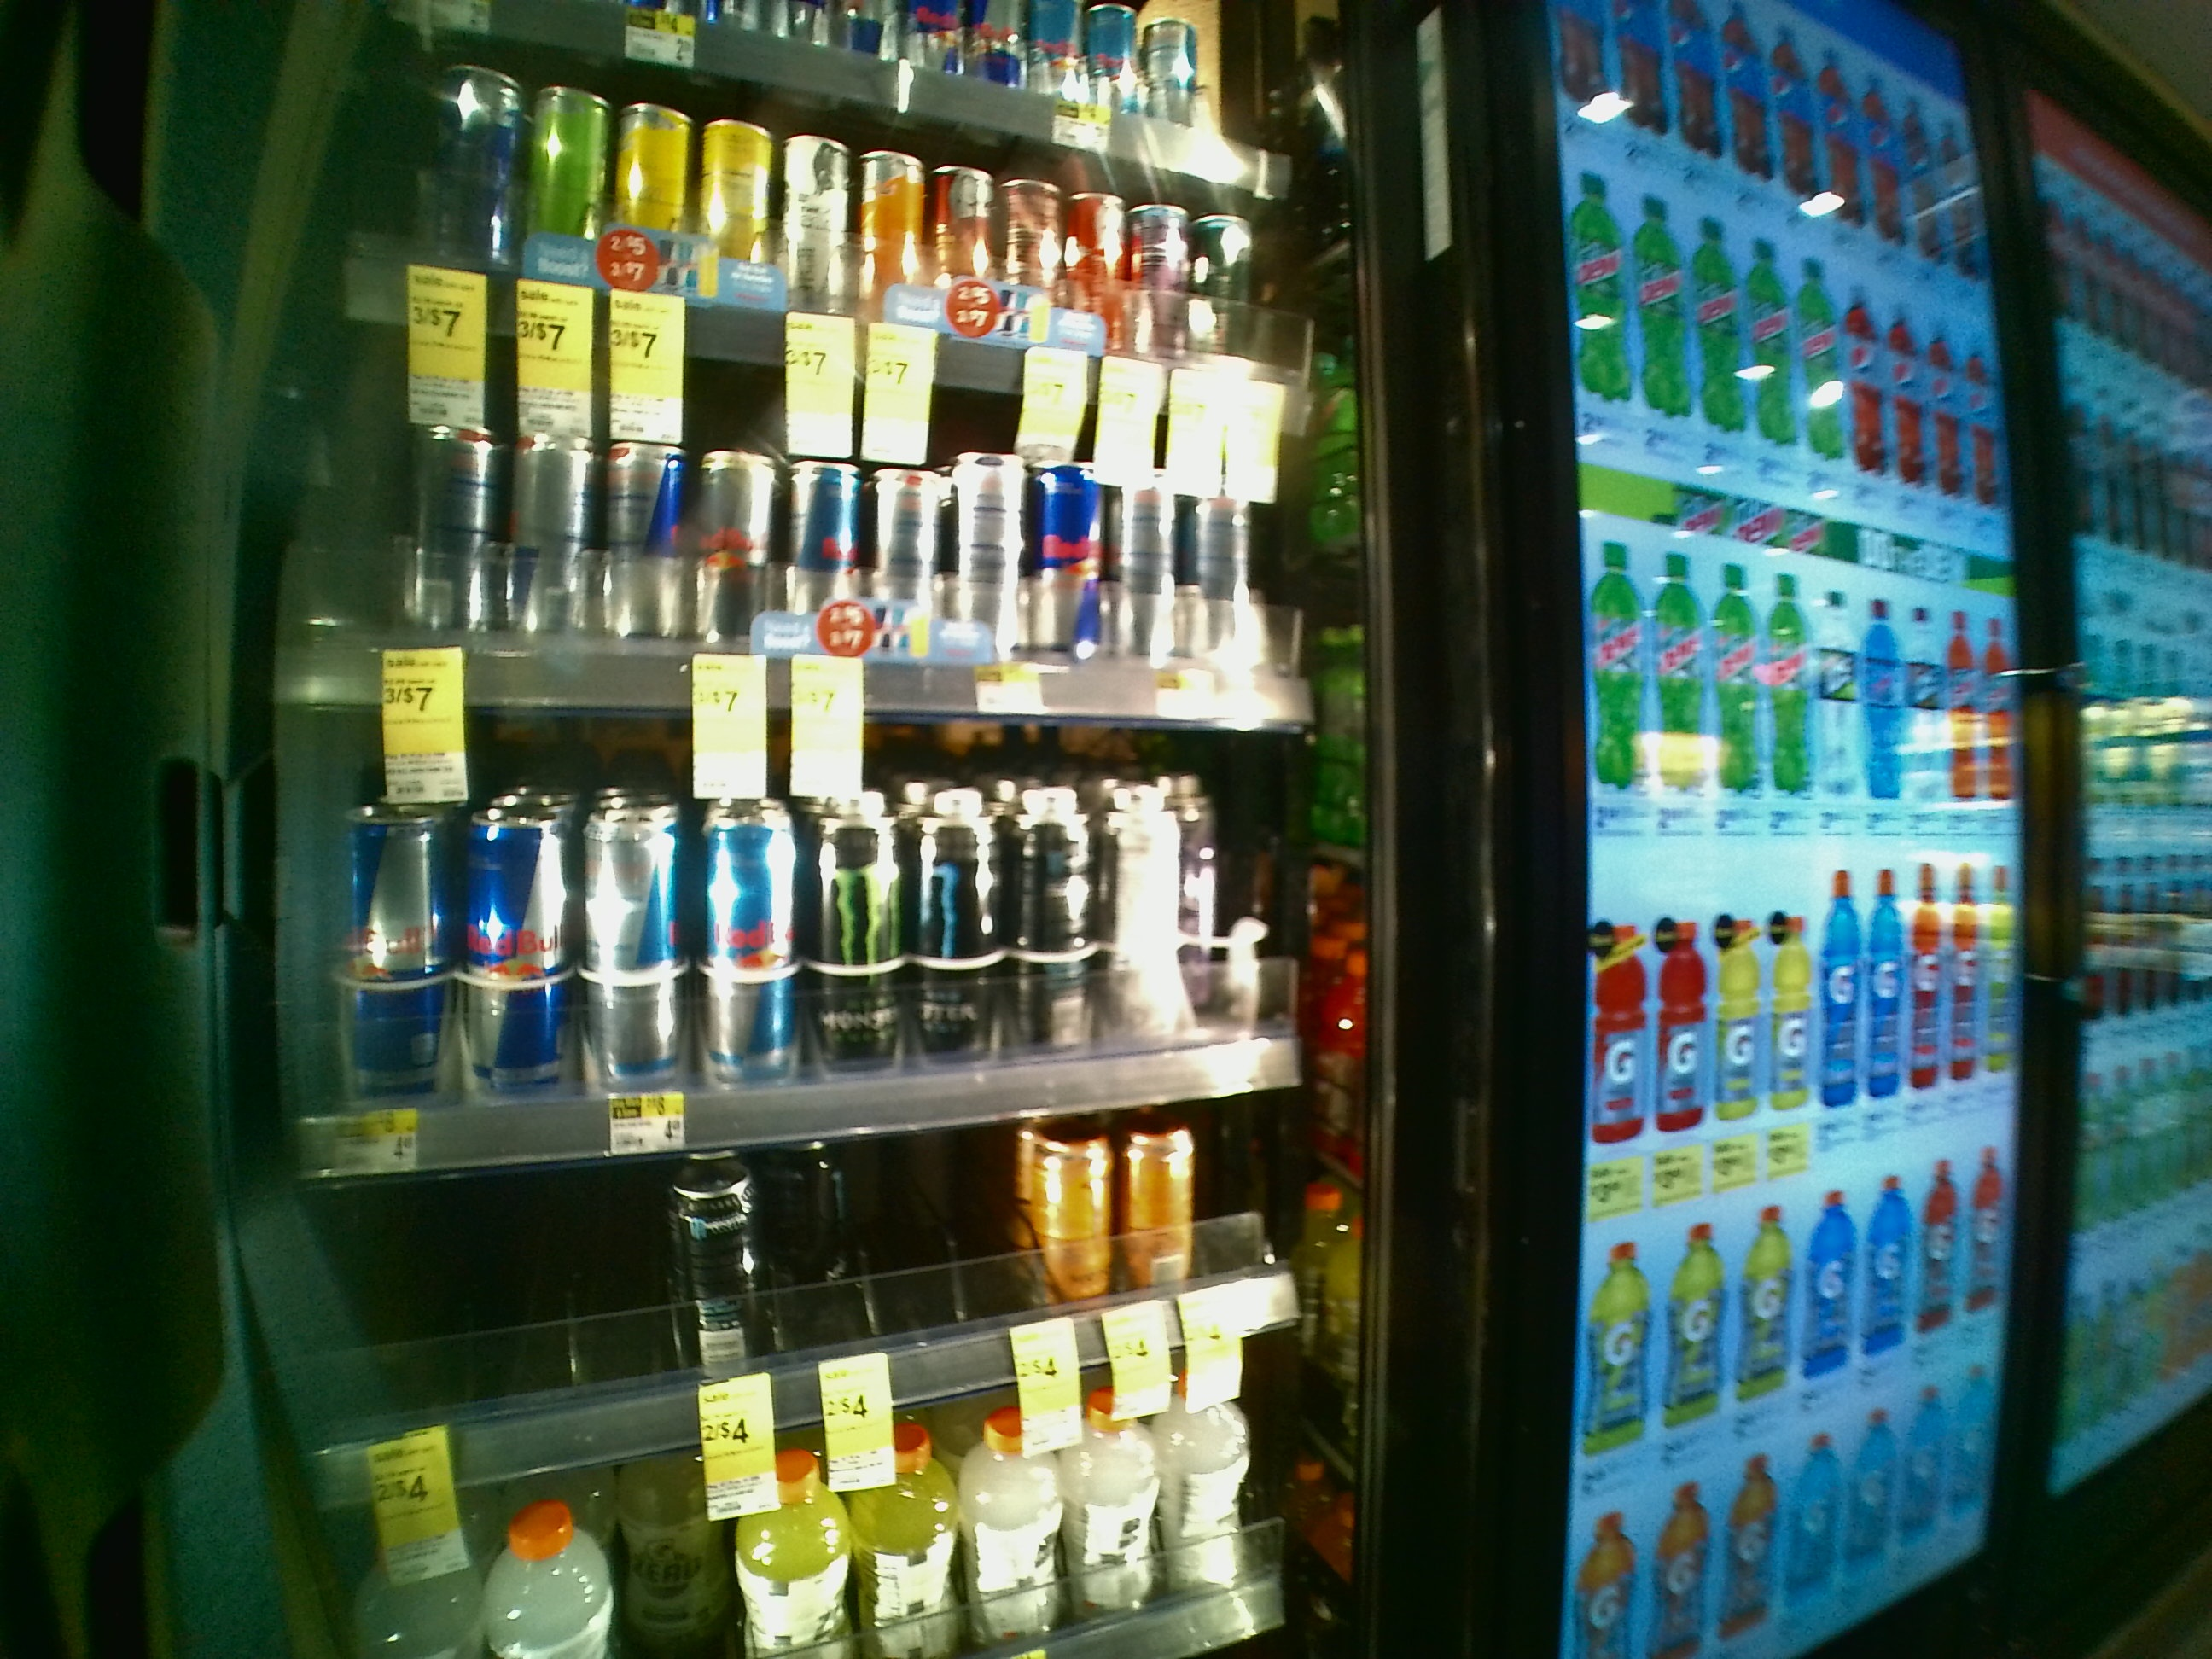shelf: (216, 708, 1388, 1136)
